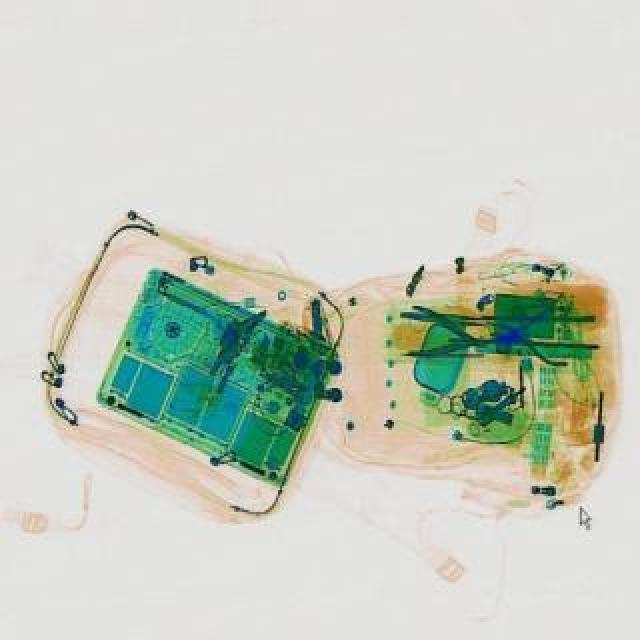wrench: (480, 298, 574, 366), (400, 304, 492, 366)
